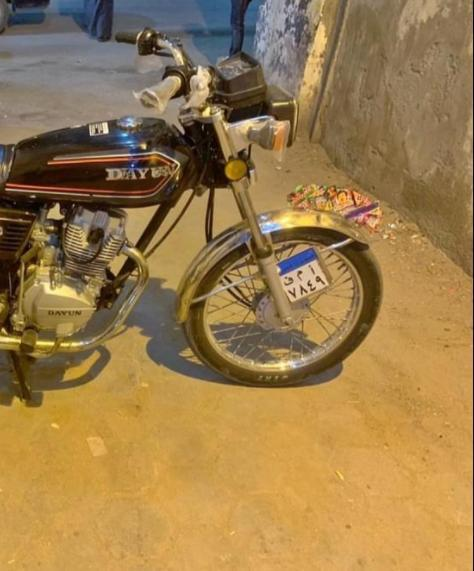License Plate: (276, 248, 333, 304)
